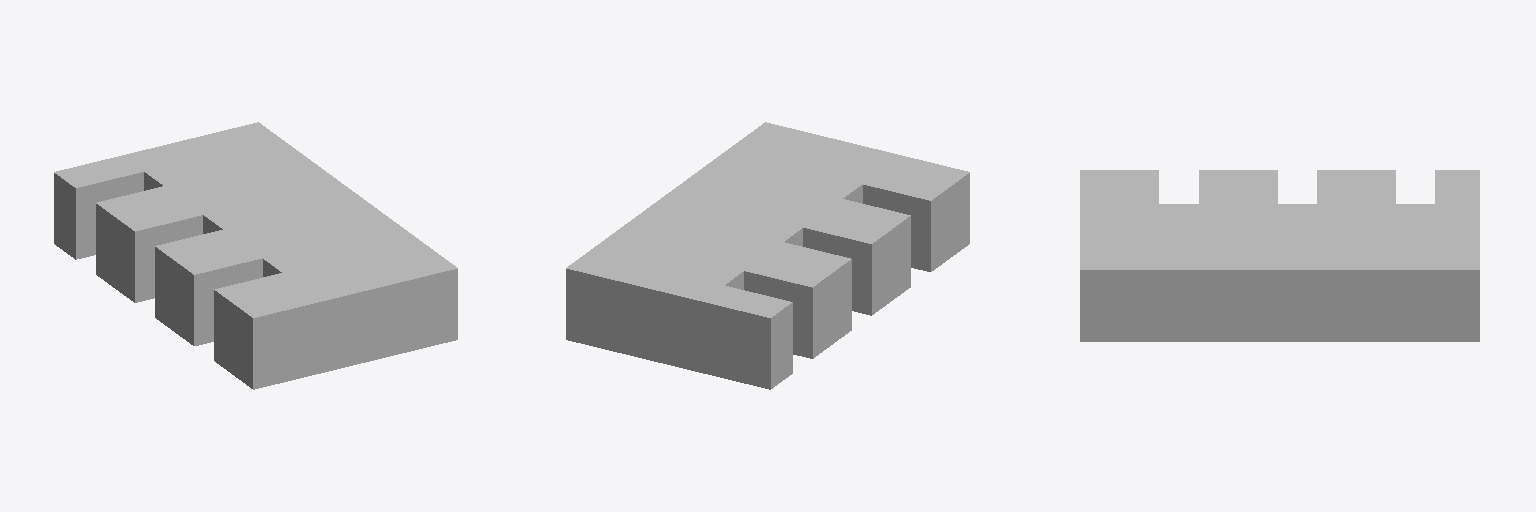
The model's file is level2.obj.
The picture shows the model from 3 angles: view 1: azimuth 30°, elevation 25°; view 2: azimuth 150°, elevation 25°; view 3: azimuth 270°, elevation 25°; orthographic projection.
Visible parts, largest first — view 1: world_geometry; view 2: world_geometry; view 3: world_geometry.
Part boxes in pixels (left/top/right/bottom): world_geometry: left=54, top=122, right=457, bottom=389; world_geometry: left=566, top=122, right=969, bottom=389; world_geometry: left=1080, top=170, right=1479, bottom=341.
Bounding box in the file's own units: 732 × 244 × 1234.